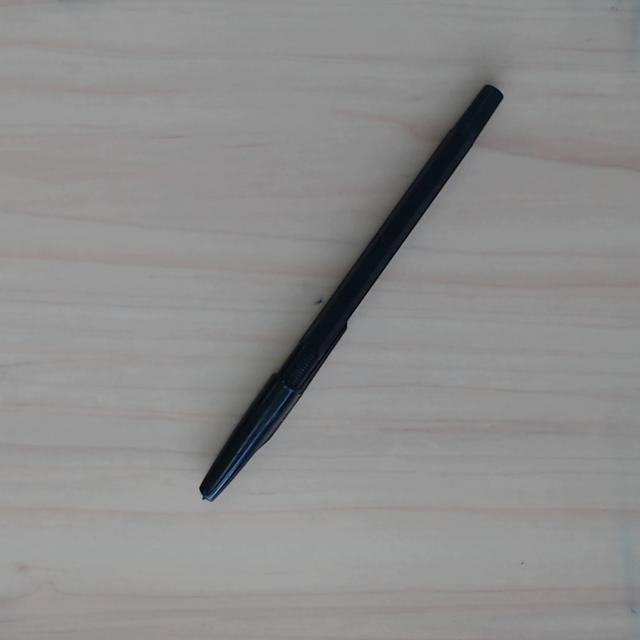Pulpen-Hitam: (191, 76, 509, 511)
